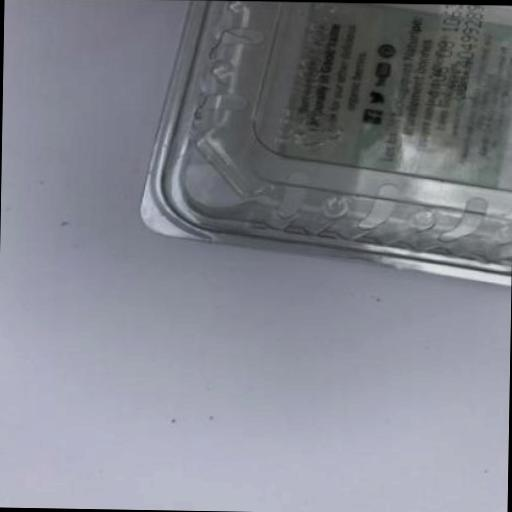plastic: (135, 0, 512, 287)
